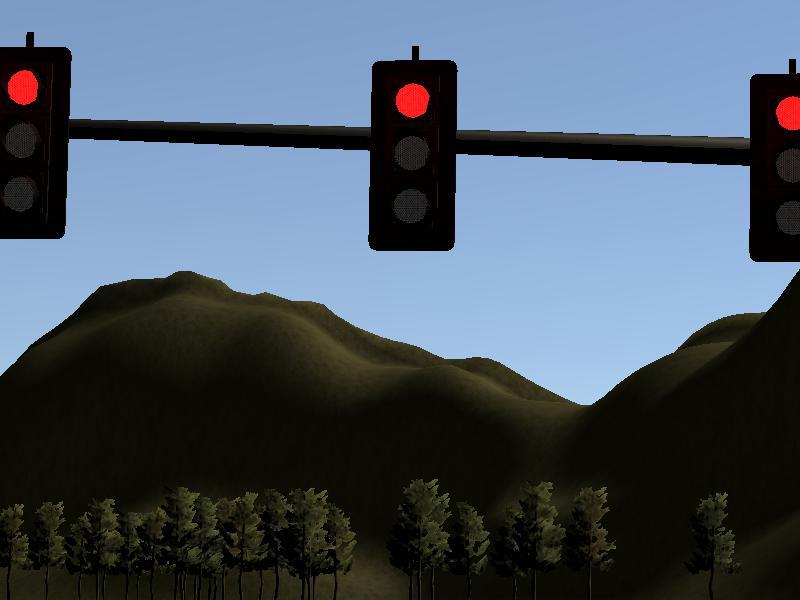Red: (374, 63, 452, 250), (1, 48, 64, 239), (751, 77, 799, 261)
